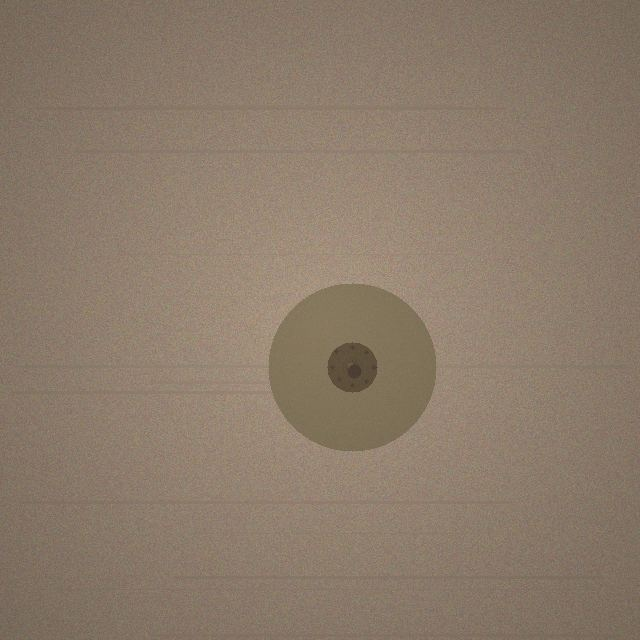cold_weld: (268, 283, 436, 451)
